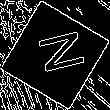N_W: (26, 29, 84, 81)
